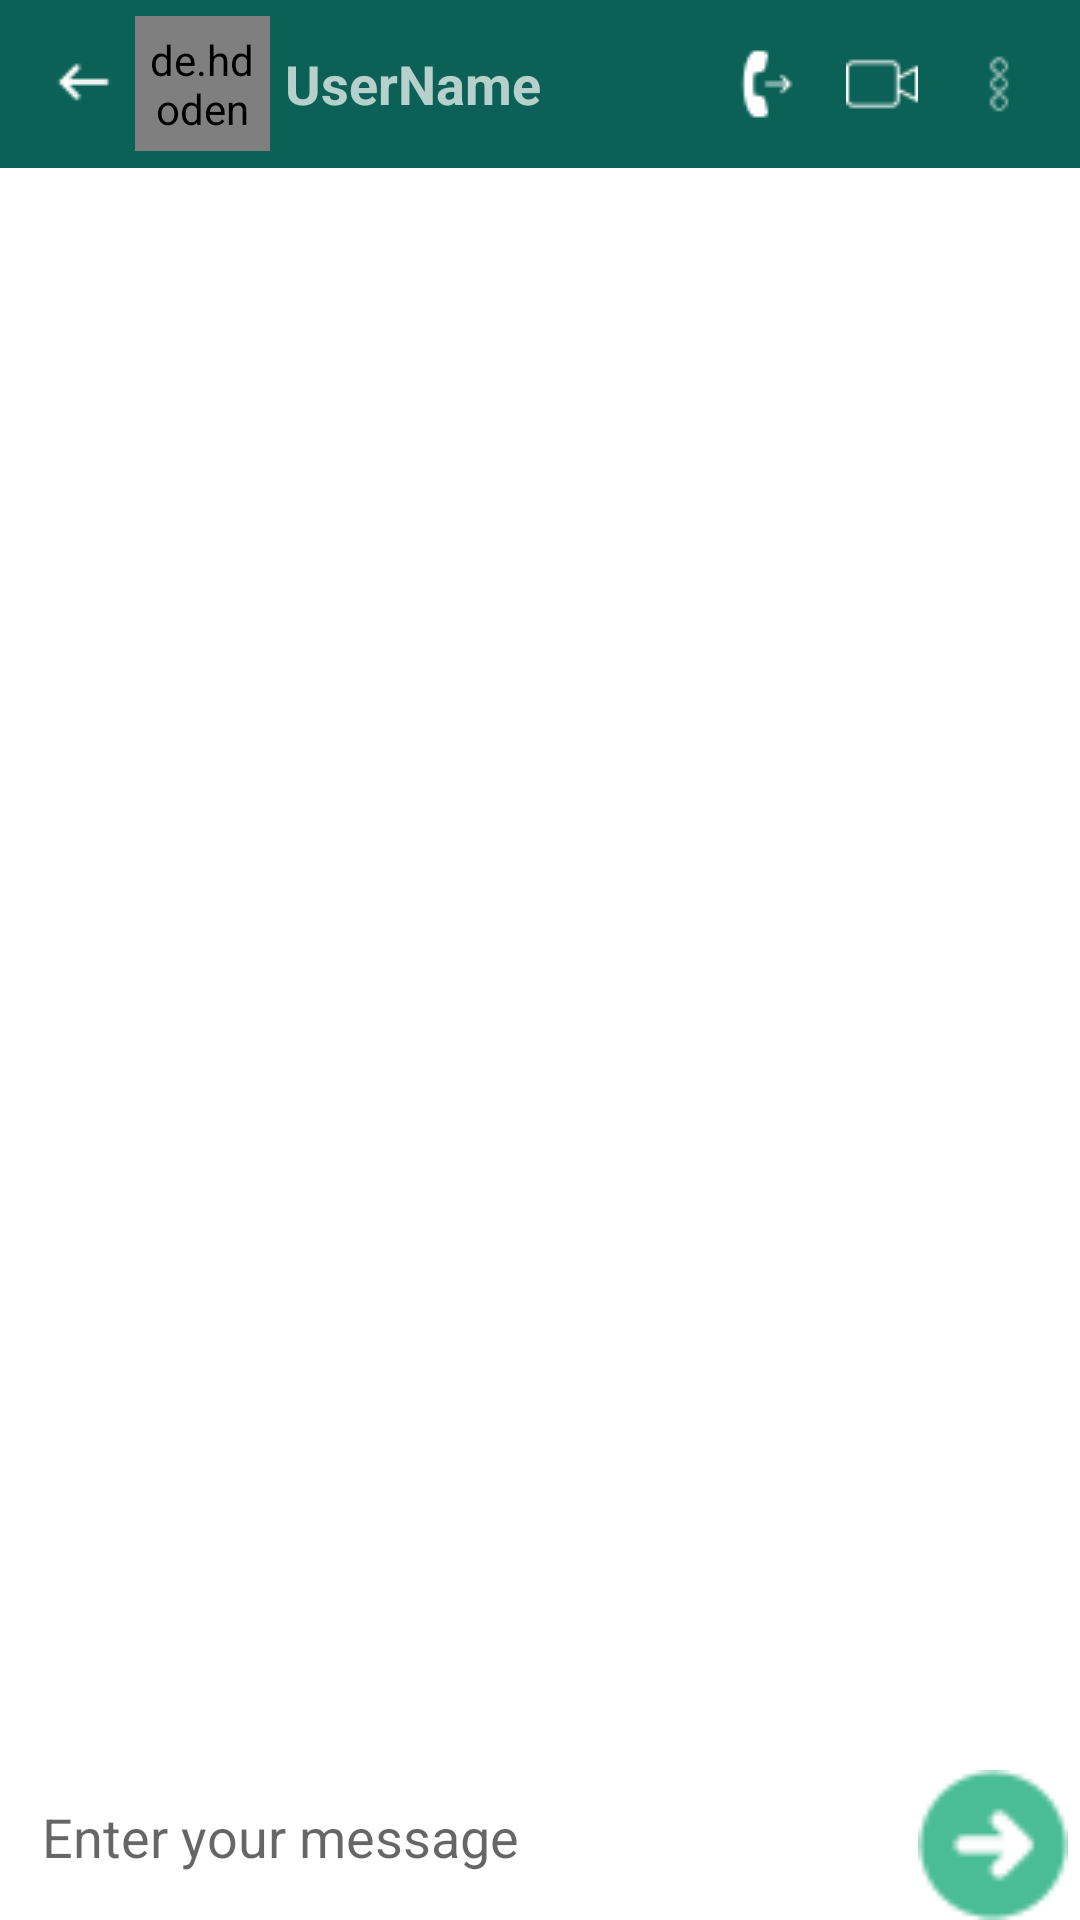

Screen size 1080 × 1920. Icon name, then its box in pixels as (x1, y1, x2, y2):
call: (741, 50, 793, 118)
leftarrowwhite: (58, 63, 109, 101)
menu: (989, 56, 1009, 112)
send: (918, 1770, 1068, 1920)
videocall: (846, 59, 918, 109)
